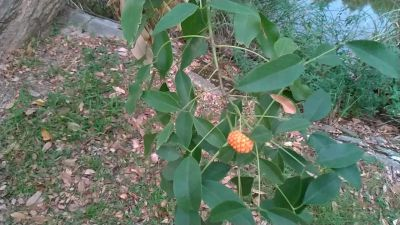eggs: (224, 127, 254, 155)
